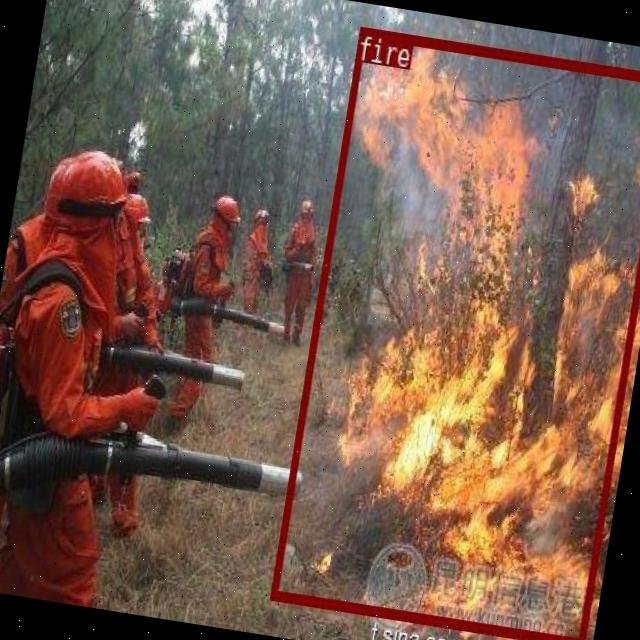fire: (269, 24, 640, 640)
